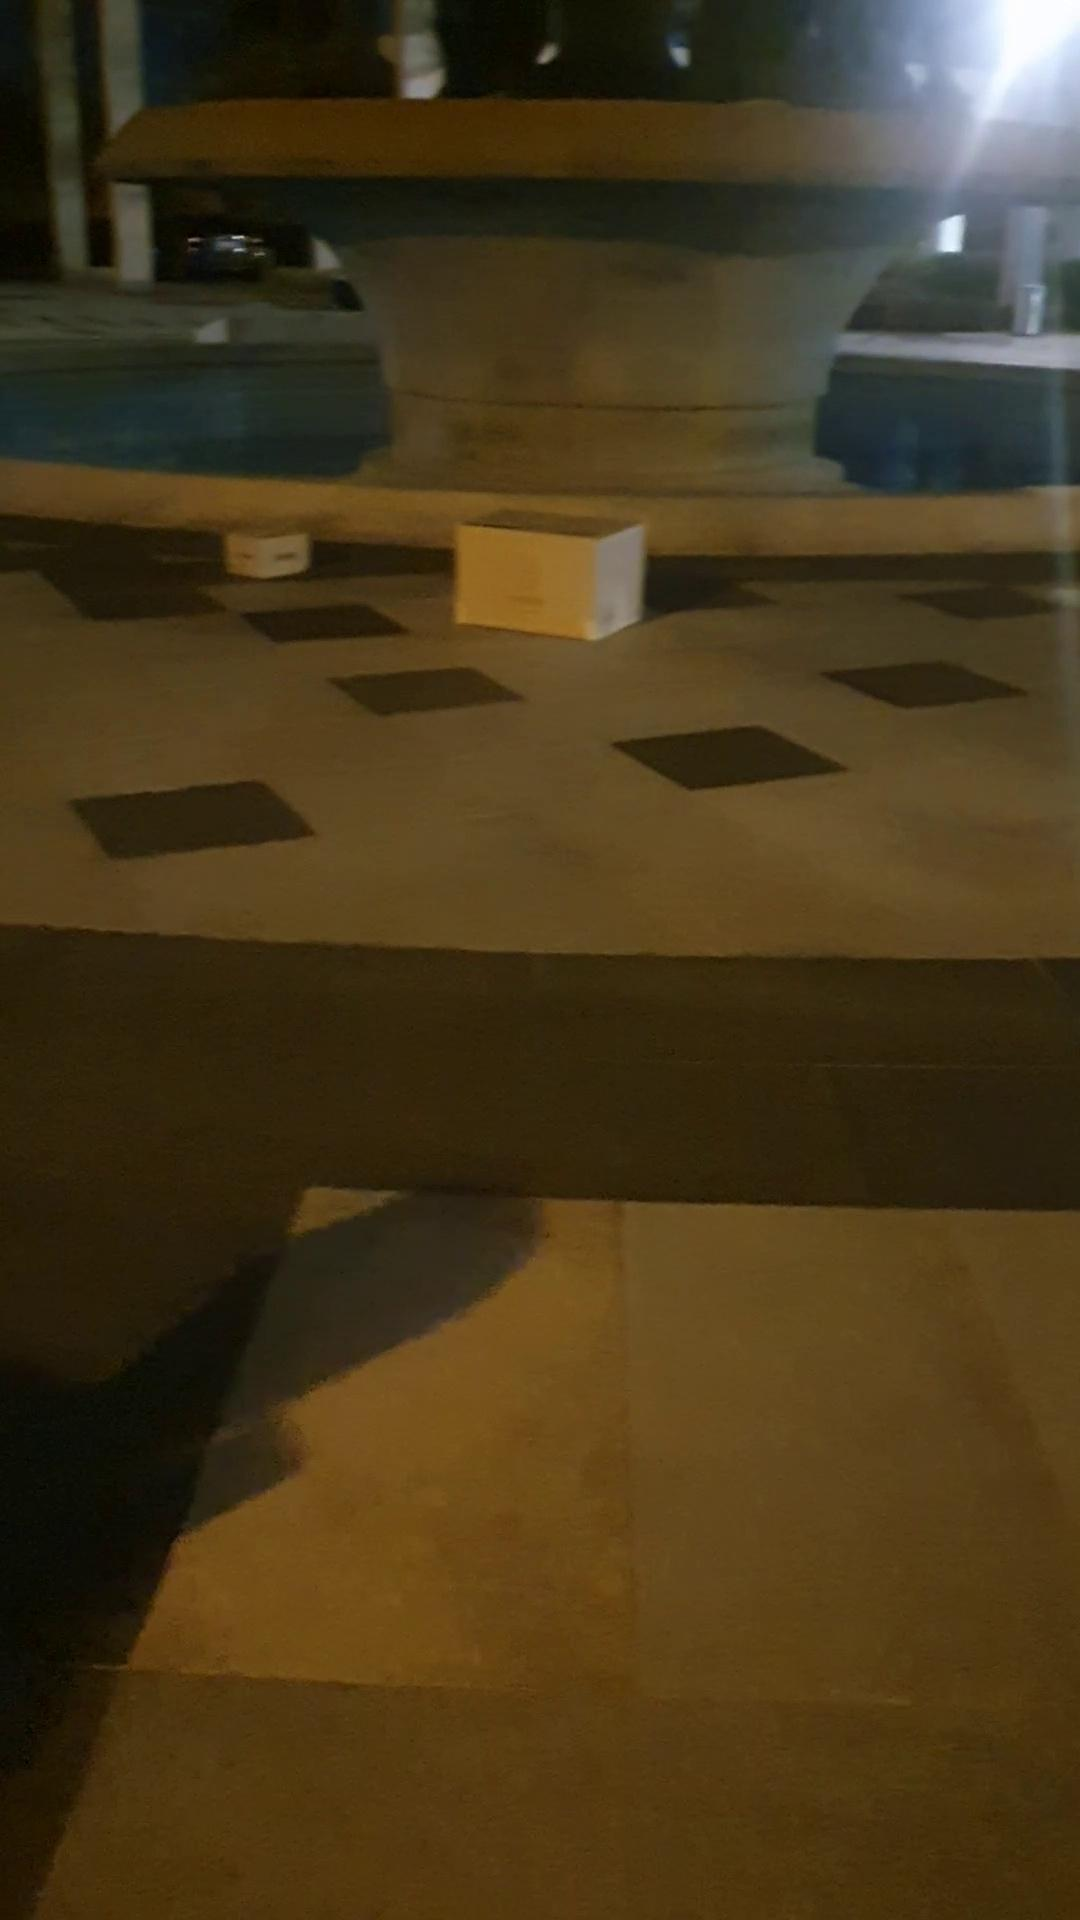Box: (451, 498, 653, 658), (231, 510, 310, 587)
